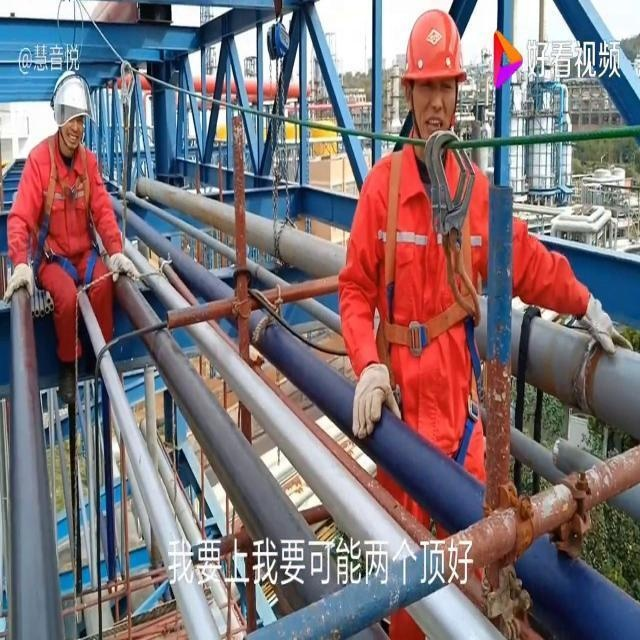Arnes_seguridad: (376, 134, 486, 391), (36, 129, 100, 274)
